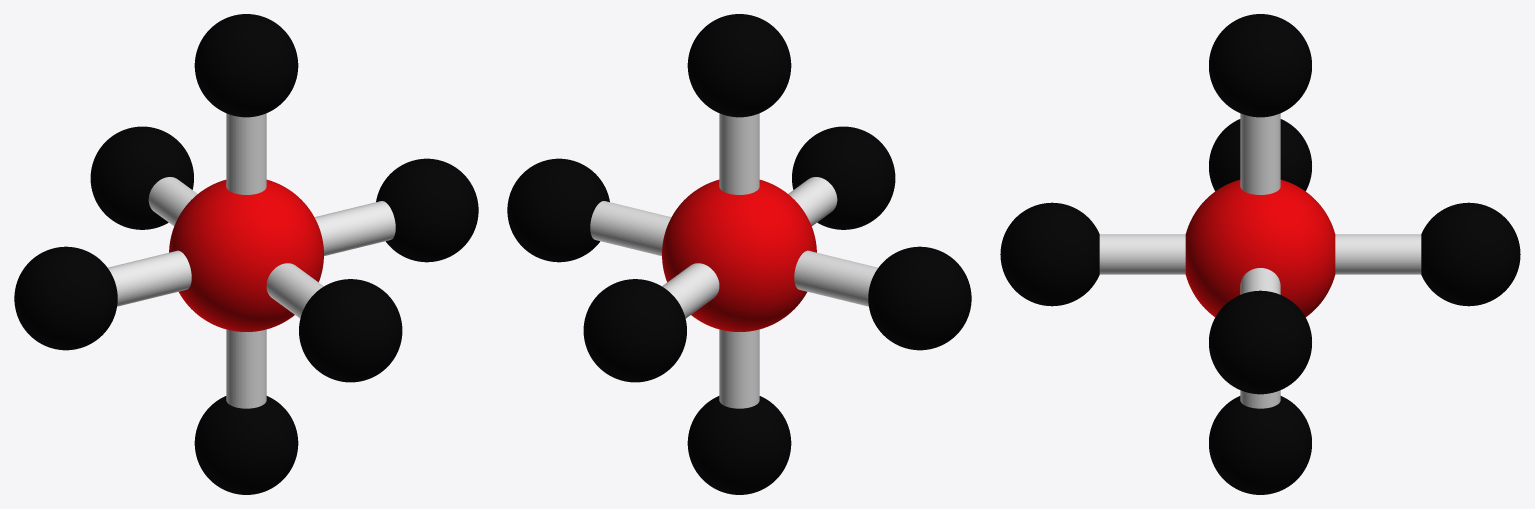
Rendered from octahedral.glb.
3 views of the same model, side by side, from view 1: azimuth 30°, elevation 25°; view 2: azimuth 150°, elevation 25°; view 3: azimuth 270°, elevation 25° (orthographic).
Parts seen in each view (by area): view 1: Sphere, Sphere.003, Sphere.005, Sphere.001, Sphere.004, Sphere.002, Sphere.006, Cylinder.001, Cylinder, Cylinder.002; view 2: Sphere, Sphere.003, Sphere.006, Sphere.001, Sphere.004, Sphere.002, Sphere.005, Cylinder.001, Cylinder, Cylinder.002; view 3: Sphere, Sphere.002, Sphere.003, Sphere.005, Sphere.006, Sphere.004, Cylinder.002, Cylinder.001, Sphere.001, Cylinder.
Boxes of the visible parts, x1,y1,x2,y2 form: Sphere: (169, 179, 323, 331); Sphere.003: (194, 14, 298, 117); Sphere.005: (299, 279, 402, 382); Sphere.001: (14, 246, 117, 350); Sphere.004: (194, 396, 298, 494); Sphere.002: (376, 158, 478, 262); Sphere.006: (90, 126, 193, 229); Cylinder.001: (226, 113, 266, 408); Cylinder: (108, 201, 395, 306); Cylinder.002: (148, 177, 323, 318); Sphere: (662, 179, 816, 331); Sphere.003: (687, 14, 791, 117); Sphere.006: (583, 279, 686, 382); Sphere.001: (868, 246, 971, 350); Sphere.004: (687, 396, 791, 494); Sphere.002: (507, 158, 609, 262); Sphere.005: (792, 126, 895, 229); Cylinder.001: (719, 113, 759, 408); Cylinder: (590, 201, 877, 306); Cylinder.002: (662, 177, 837, 318); Sphere: (1185, 179, 1335, 316); Sphere.002: (1209, 290, 1311, 394); Sphere.003: (1209, 14, 1311, 117); Sphere.005: (1000, 202, 1099, 306); Sphere.006: (1421, 202, 1520, 306); Sphere.004: (1209, 396, 1311, 494); Cylinder.002: (1099, 234, 1421, 274); Cylinder.001: (1240, 113, 1280, 408); Sphere.001: (1209, 119, 1311, 191); Cylinder: (1240, 268, 1280, 294).
Size of the model in its own units: 9.98 by 9.98 by 9.98.
